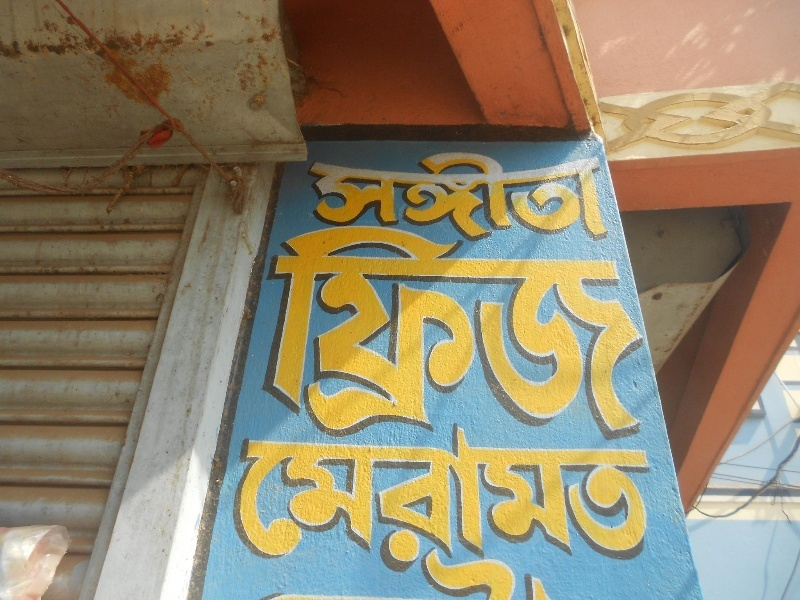text: (289, 226, 304, 442), (305, 226, 320, 442), (321, 226, 336, 442), (337, 226, 352, 442), (353, 226, 368, 442), (369, 226, 384, 442), (385, 226, 400, 442), (401, 226, 416, 442), (417, 226, 432, 442), (433, 226, 448, 442), (449, 226, 464, 442), (465, 226, 480, 442), (481, 226, 496, 442), (497, 226, 512, 442), (513, 226, 528, 442), (529, 226, 544, 442), (545, 226, 560, 442), (561, 226, 576, 442), (577, 226, 592, 442), (593, 226, 608, 442), (609, 226, 624, 442), (625, 226, 640, 442), (641, 226, 656, 442), (277, 226, 288, 442), (257, 422, 272, 577), (273, 422, 288, 577), (289, 422, 304, 577), (305, 422, 320, 577), (321, 422, 336, 577), (337, 422, 352, 577), (353, 422, 368, 577), (369, 422, 384, 577), (385, 422, 400, 577), (401, 422, 416, 577), (417, 422, 432, 577), (433, 422, 448, 577), (449, 422, 464, 577), (465, 422, 480, 577), (481, 422, 496, 577), (497, 422, 512, 577), (513, 422, 528, 577), (529, 422, 544, 577), (545, 422, 560, 577), (561, 422, 576, 577), (577, 422, 592, 577), (593, 422, 608, 577), (609, 422, 624, 577), (625, 422, 640, 577), (641, 422, 656, 577), (246, 422, 256, 577), (321, 149, 336, 247), (337, 149, 352, 247), (353, 149, 368, 247), (369, 149, 384, 247), (385, 149, 400, 247), (401, 149, 416, 247), (417, 149, 432, 247), (433, 149, 448, 247), (449, 149, 464, 247), (465, 149, 480, 247), (481, 149, 496, 247), (497, 149, 512, 247), (513, 149, 528, 247), (529, 149, 544, 247), (545, 149, 560, 247), (561, 149, 576, 247), (577, 149, 592, 247), (306, 149, 320, 247), (657, 226, 663, 442), (657, 422, 665, 577), (593, 149, 605, 247), (433, 547, 448, 598), (449, 547, 464, 598), (465, 547, 480, 598), (481, 547, 496, 598), (497, 547, 512, 598), (513, 547, 528, 598), (529, 547, 544, 598), (545, 547, 560, 598), (425, 547, 432, 598)
